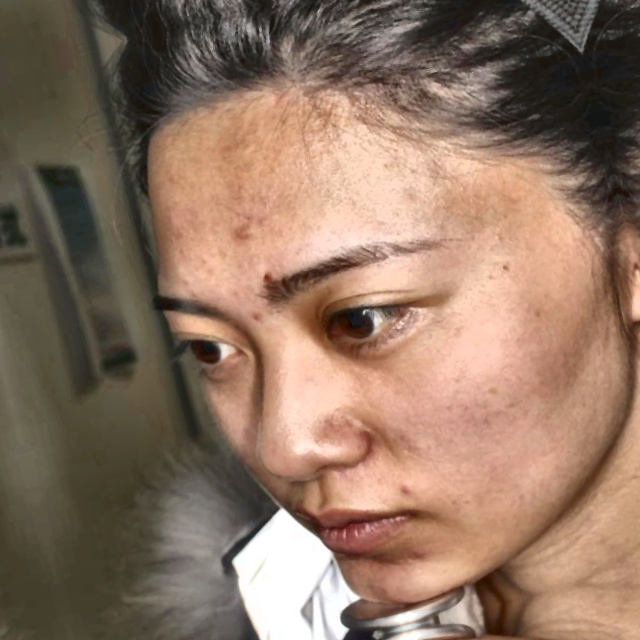comedone: (401, 537, 436, 565), (227, 220, 254, 245), (391, 478, 419, 499), (247, 304, 268, 330)
